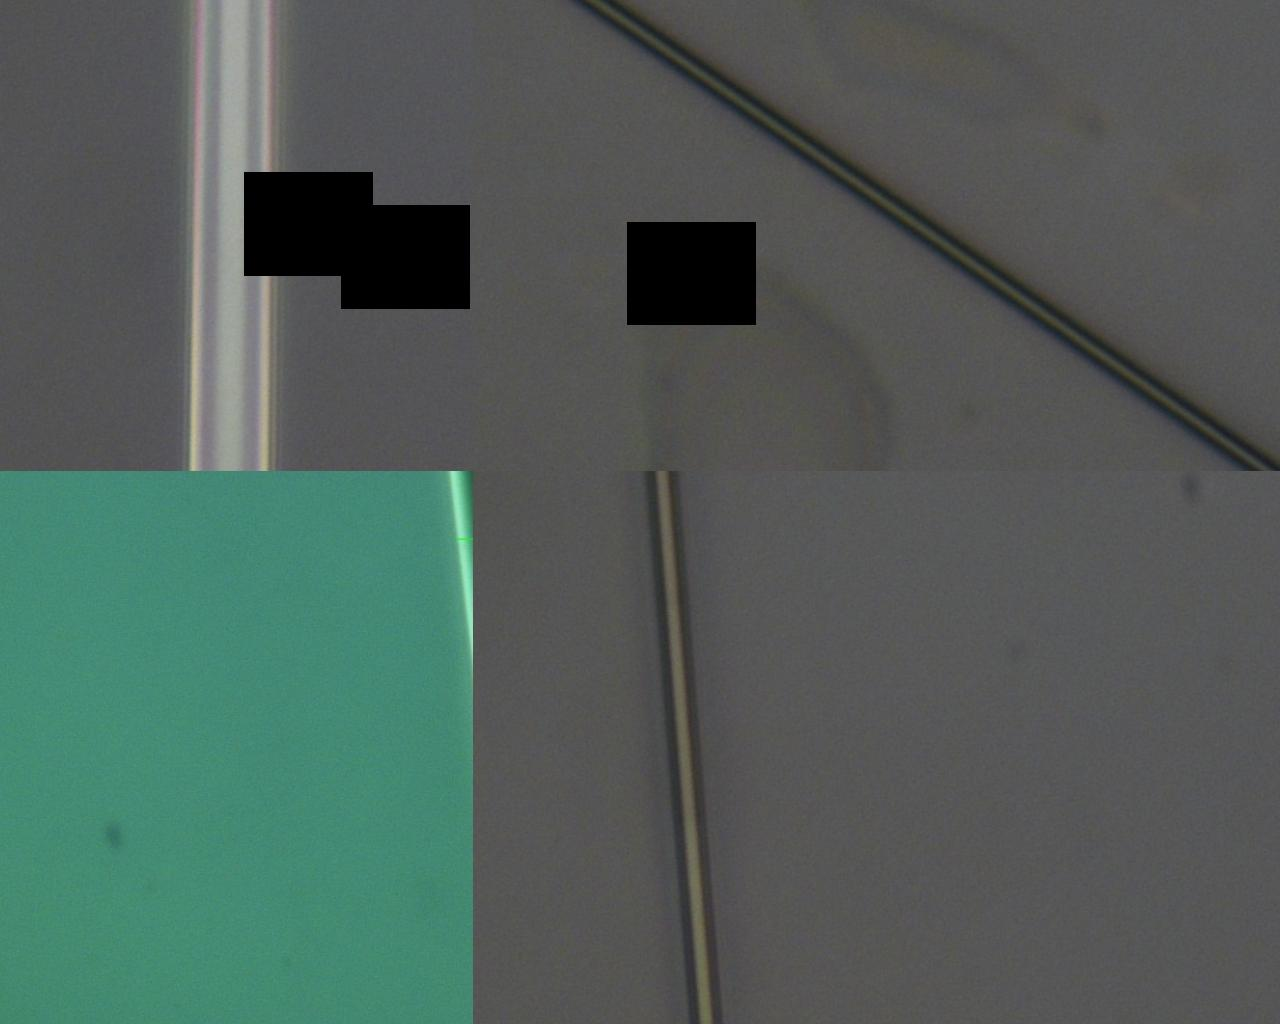fiber: (549, 196, 1280, 512), (0, 512, 303, 949), (0, 0, 302, 432), (542, 819, 1280, 988)
